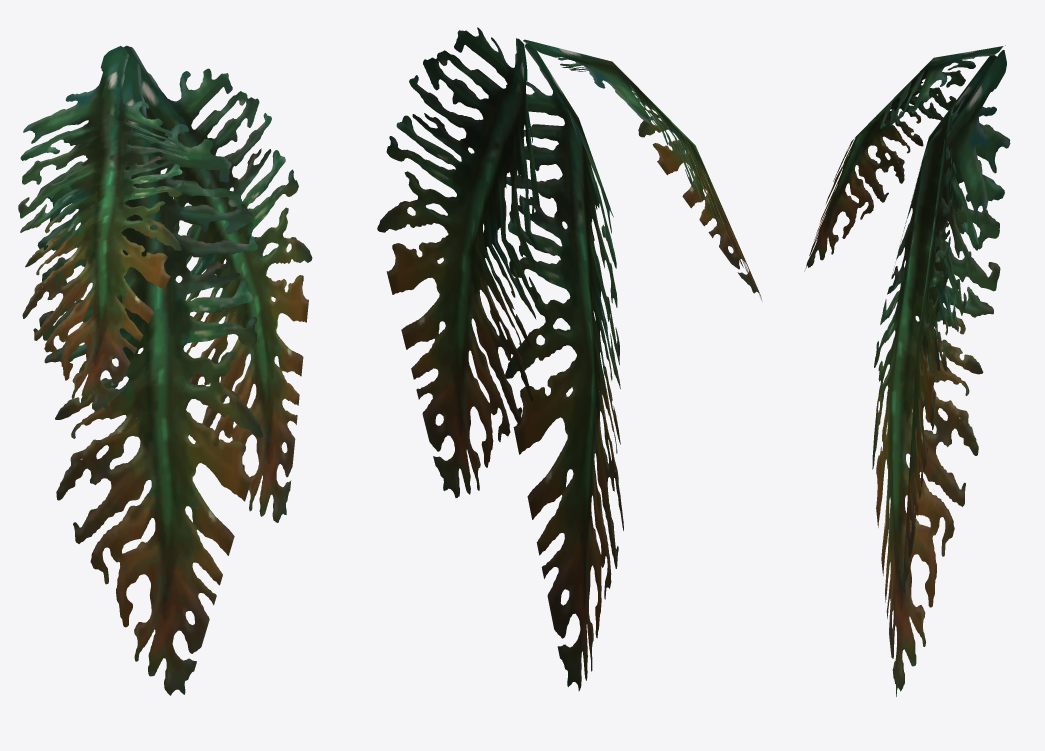
File: stemple_fern_straight_01.fbx
The picture shows the model from 3 angles, left to right: view 1: azimuth 30°, elevation 25°; view 2: azimuth 150°, elevation 25°; view 3: azimuth 270°, elevation 25°; orthographic projection. The views are drawn at different scales.
Visible parts, largest first — view 1: sunken_tileset/sunken_plants01_mat; view 2: sunken_tileset/sunken_plants01_mat; view 3: sunken_tileset/sunken_plants01_mat.
Boxes of the visible parts, x1=… form: sunken_tileset/sunken_plants01_mat: x1=18, y1=45, x2=312, y2=695; sunken_tileset/sunken_plants01_mat: x1=377, y1=27, x2=761, y2=690; sunken_tileset/sunken_plants01_mat: x1=804, y1=45, x2=1010, y2=696.
Bounding box in the file's own units: 1.68 × 3.31 × 0.9708.
